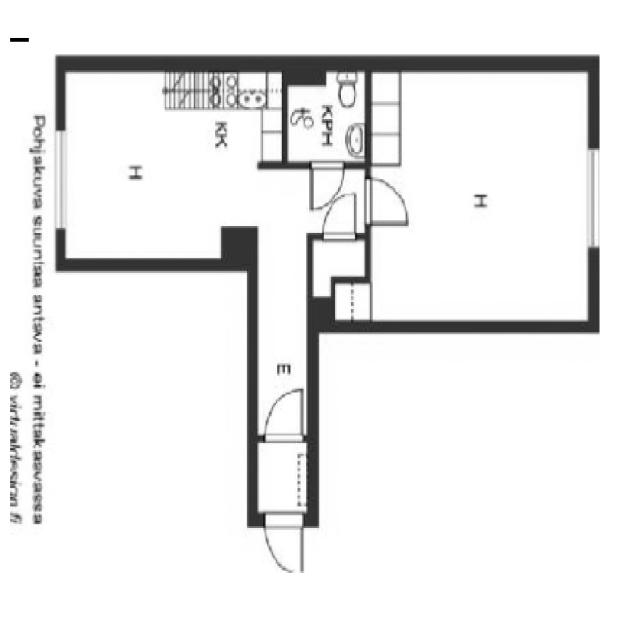door: (360, 170, 416, 229), (262, 510, 306, 579), (262, 384, 308, 443), (305, 155, 346, 208), (320, 191, 360, 243)
window: (582, 136, 606, 252), (49, 122, 70, 233)
zone: (368, 66, 598, 328), (52, 72, 266, 264), (286, 62, 371, 165), (254, 433, 312, 521)
